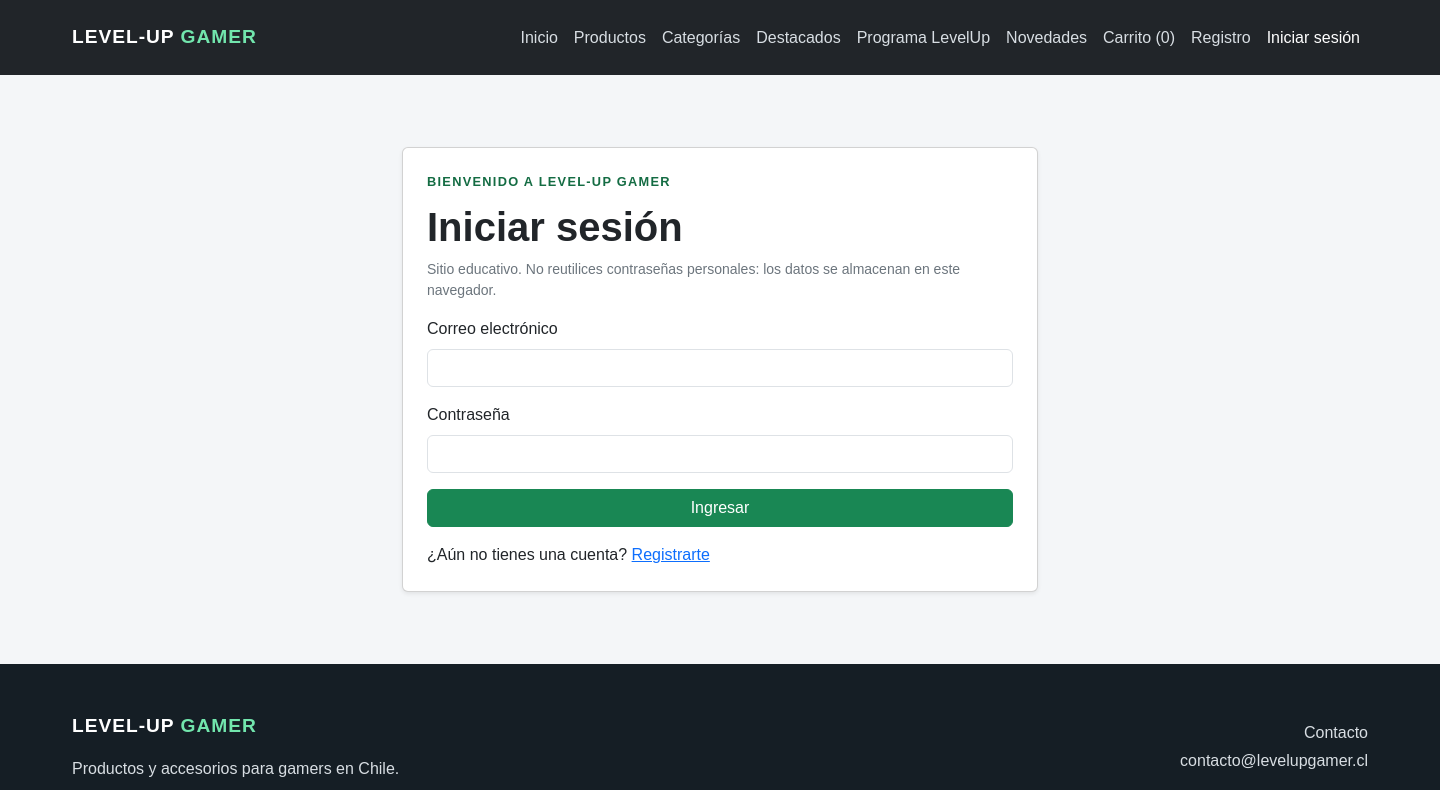
login muestra errores de campos y credenciales sin crear sesión
The width and height of the screenshot is (1440, 790).
Click the button "Ingresar" at (720, 508), box 427,489 -> 1013,527
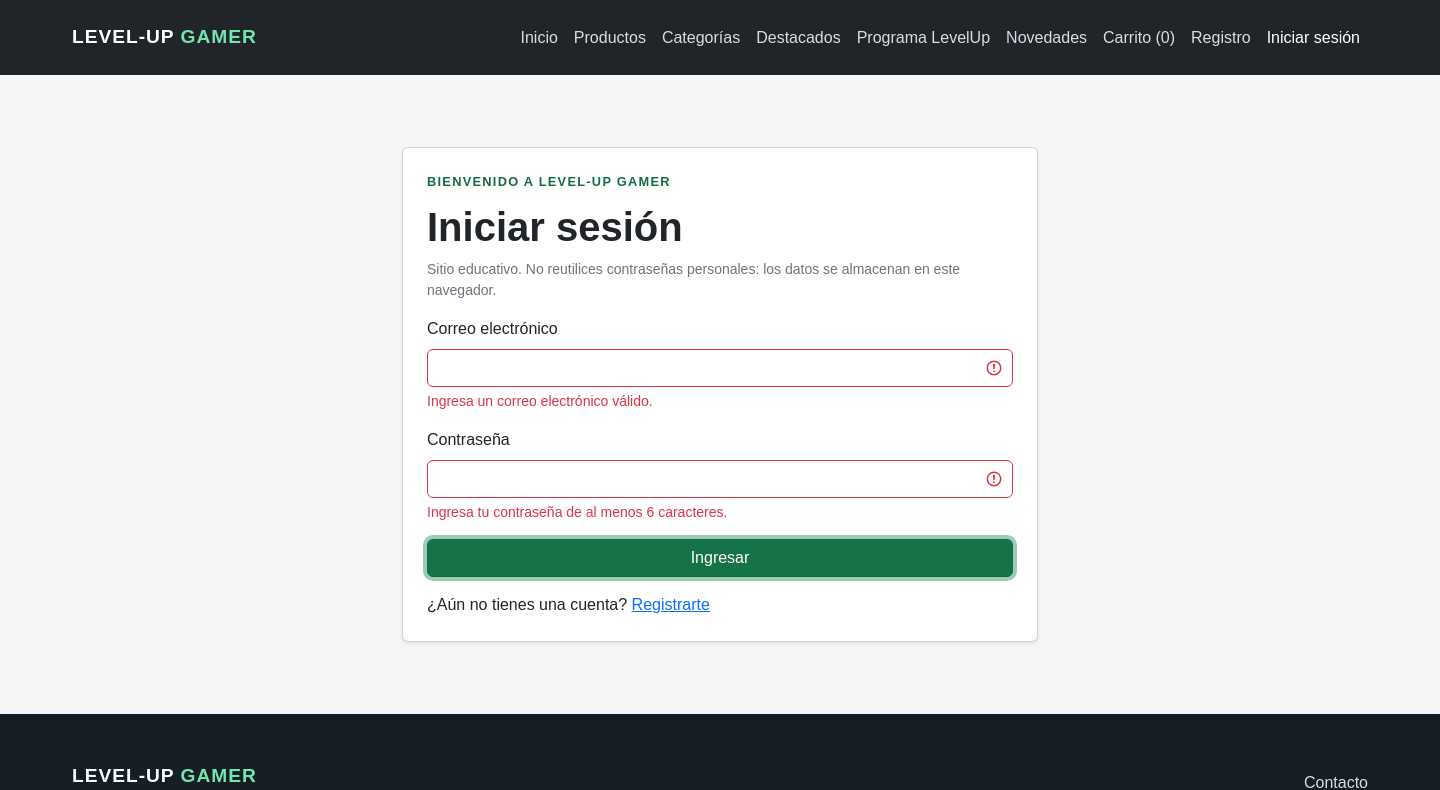
Expected: the text "Ingresa un correo electrónico válido." is shown, 427,393 -> 653,409
Expected: the text "Ingresa tu contraseña de al menos 6 caracteres." is shown, 427,504 -> 727,520
Type "nadie@example.com" into the field labelled "Correo electrónico" at (720, 368), box 427,349 -> 1013,387
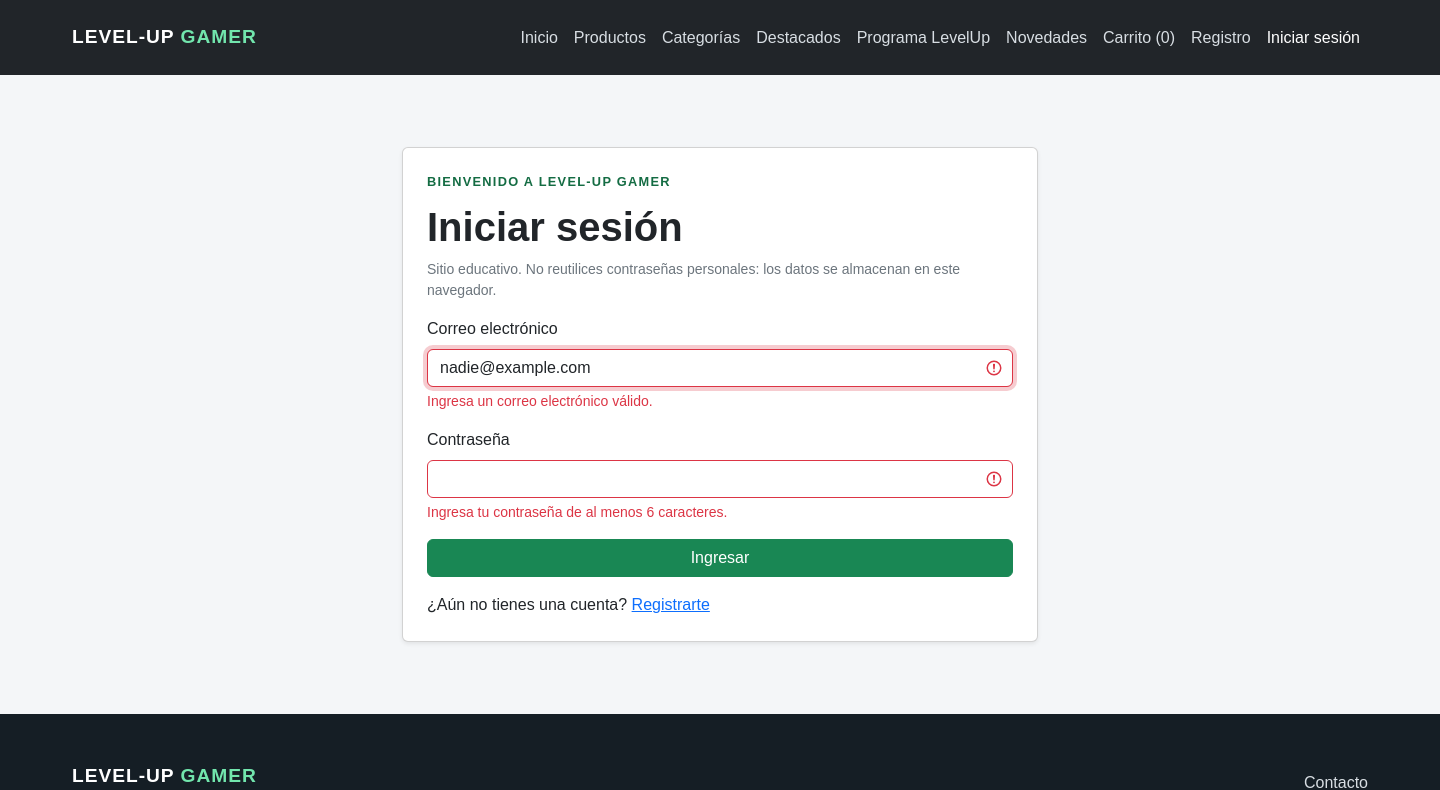
Type "Incorrecta123" into the password field labelled "Contraseña" at (720, 479), box 427,460 -> 1013,498
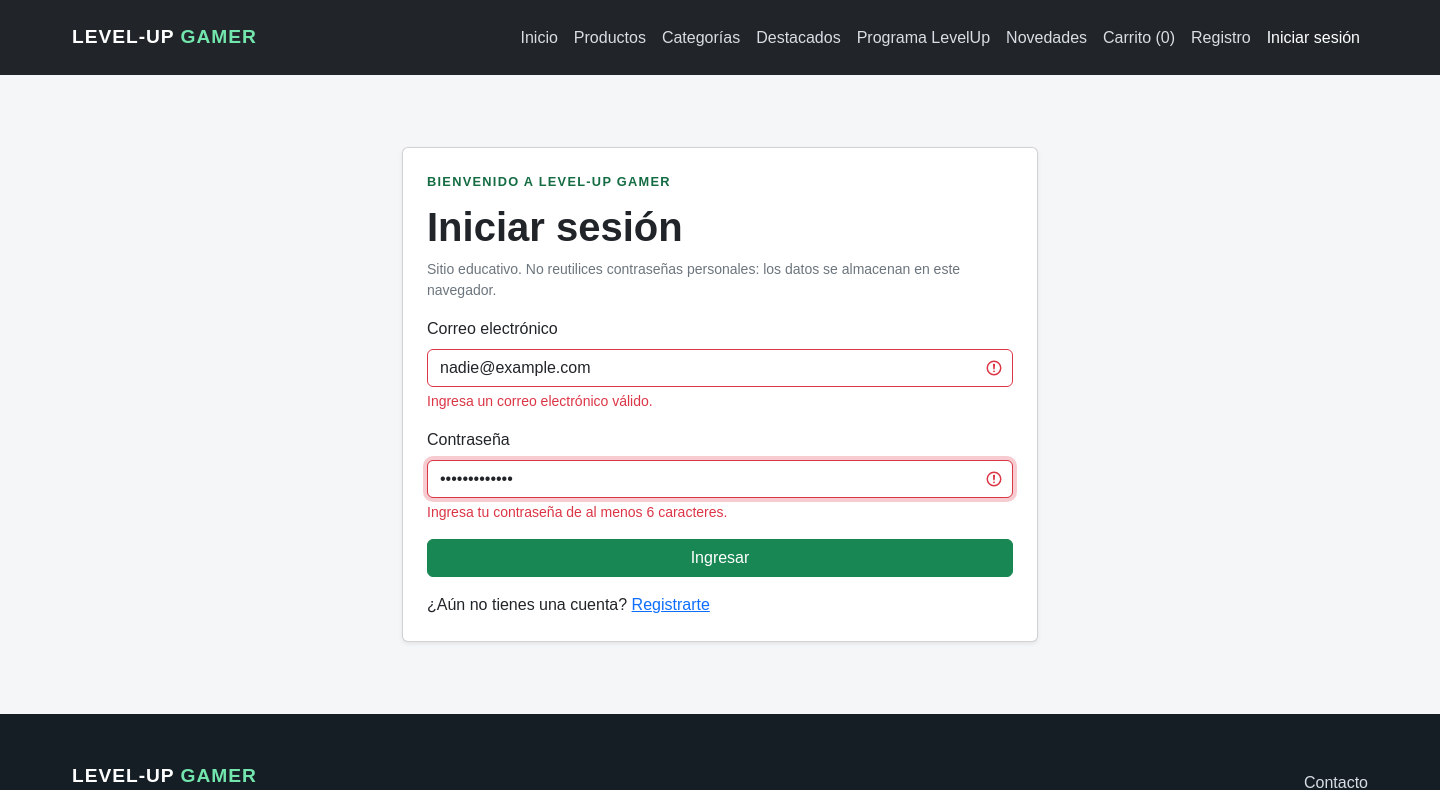
Click the button "Ingresar" at (720, 558), box 427,539 -> 1013,577
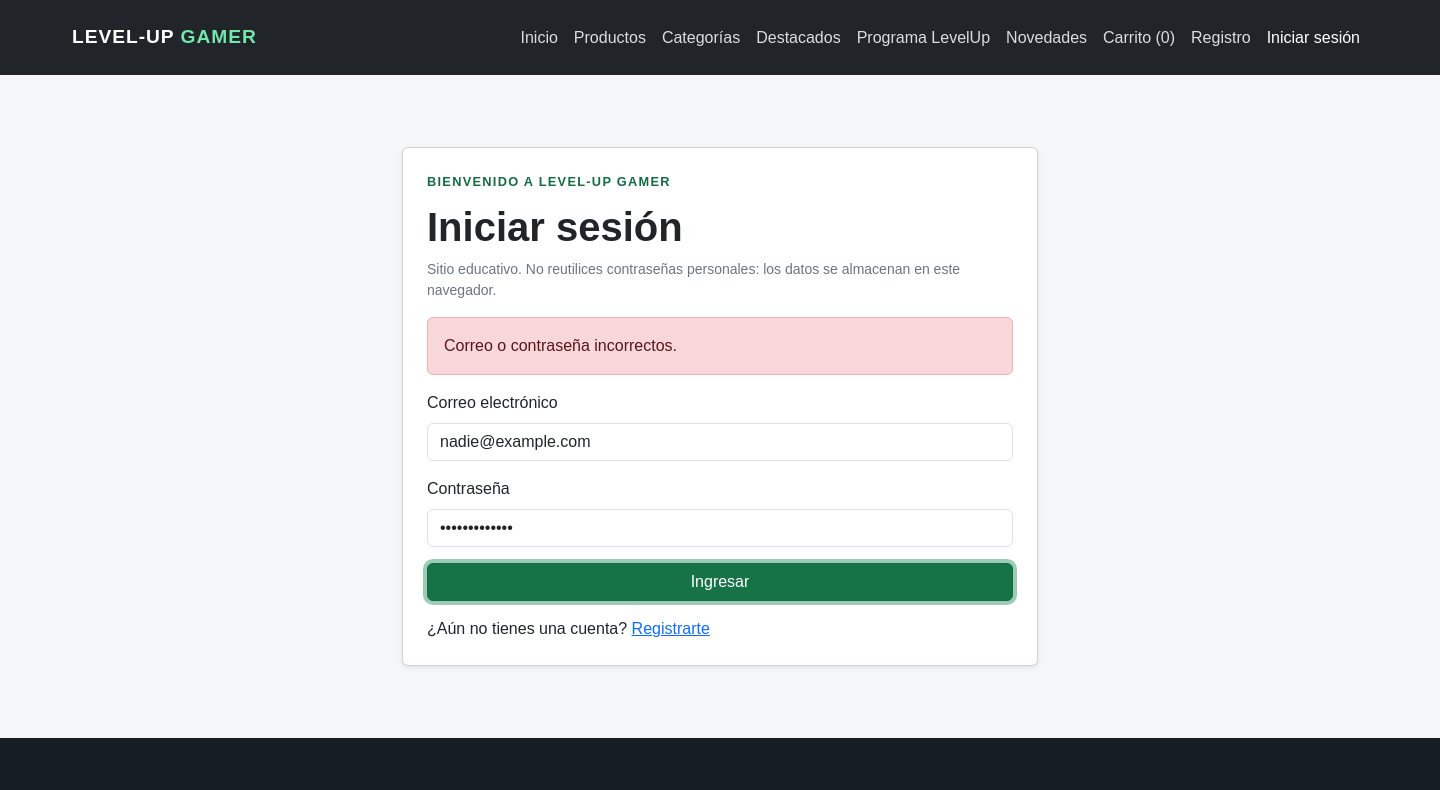
Expected: the text "Correo o contraseña incorrectos." is shown, 427,317 -> 1013,375
